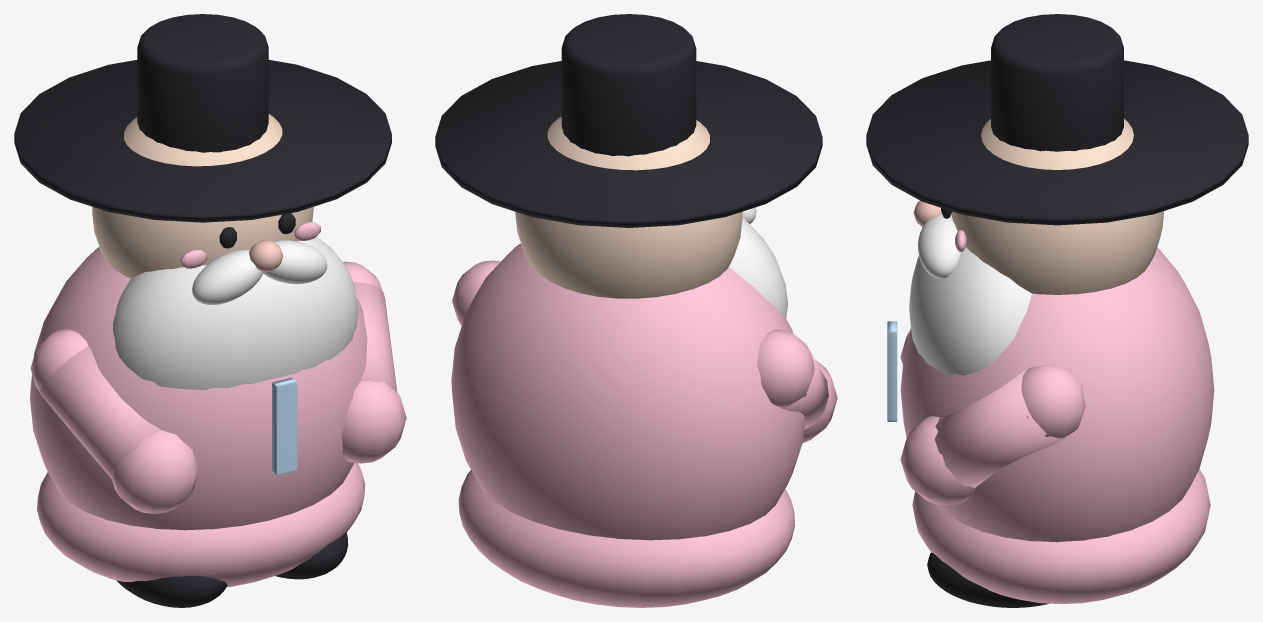
Rendered from hanbok.glb.
3 renders of one model, left to right at view 1: azimuth 30°, elevation 25°; view 2: azimuth 150°, elevation 25°; view 3: azimuth 270°, elevation 25°, orthographic. The views are drawn at different scales.
Parts seen in each view (by area): view 1: hanbok_pink, hanbok_black, hanbok_white, hanbok_skin, hanbok_sky, hanbok_nose; view 2: hanbok_pink, hanbok_black, hanbok_skin, hanbok_white; view 3: hanbok_pink, hanbok_black, hanbok_skin, hanbok_white, hanbok_sky.
Part boxes in pixels (x1,y1,x2,y2): hanbok_pink: (30,222,406,587); hanbok_black: (14,14,391,607); hanbok_white: (113,236,358,390); hanbok_skin: (92,114,313,278); hanbok_sky: (272,378,297,475); hanbok_nose: (249,240,283,272); hanbok_pink: (451,243,837,607); hanbok_black: (435,14,822,227); hanbok_skin: (515,116,742,298); hanbok_white: (729,207,787,318); hanbok_pink: (900,230,1214,604); hanbok_black: (866,14,1248,607); hanbok_skin: (951,119,1164,294); hanbok_white: (909,215,1031,375); hanbok_sky: (887,321,897,421).
Size of the model in its own units: 2 by 2.93 by 1.9.
